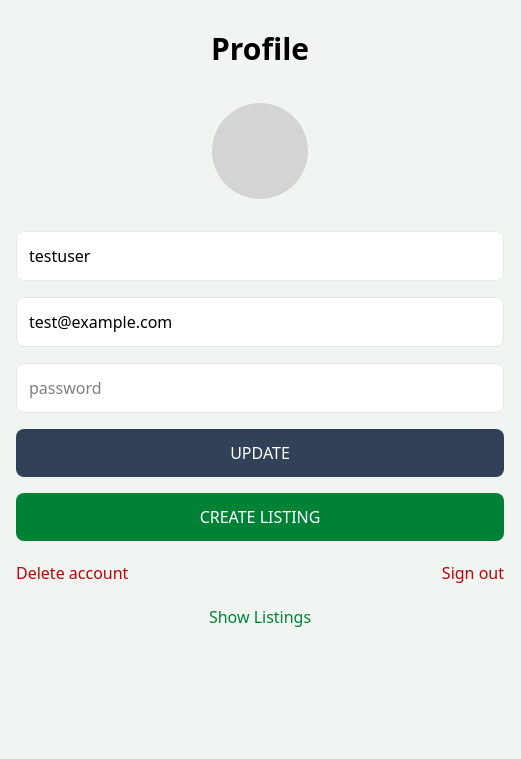
it: Profile Component › fetches and displays user listings on 'Show Listings' click
This screenshot has width=521, height=759.
# Clicking the Show Listings button
Click the button "Show Listings".
click(260, 617)  # box [16, 605, 504, 629]
(page scrolled)
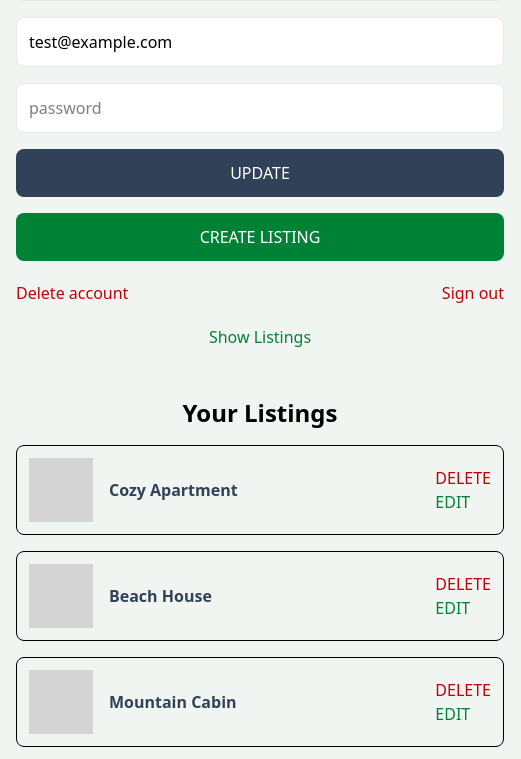
Expected: the heading "Your Listings" is shown, [182, 396, 338, 429]
Expected: the text "Cozy Apartment" is shown, [109, 479, 238, 501]
Expected: the text "Beach House" is shown, [109, 585, 212, 607]
